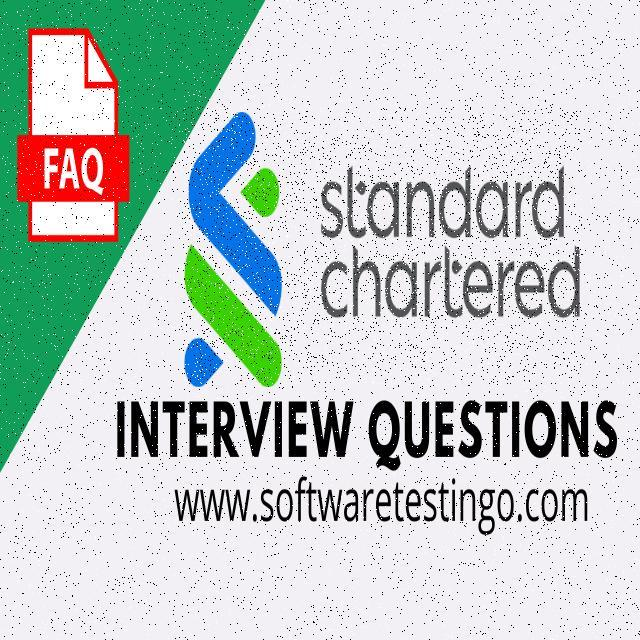Standard Chartered: (182, 107, 582, 384)
